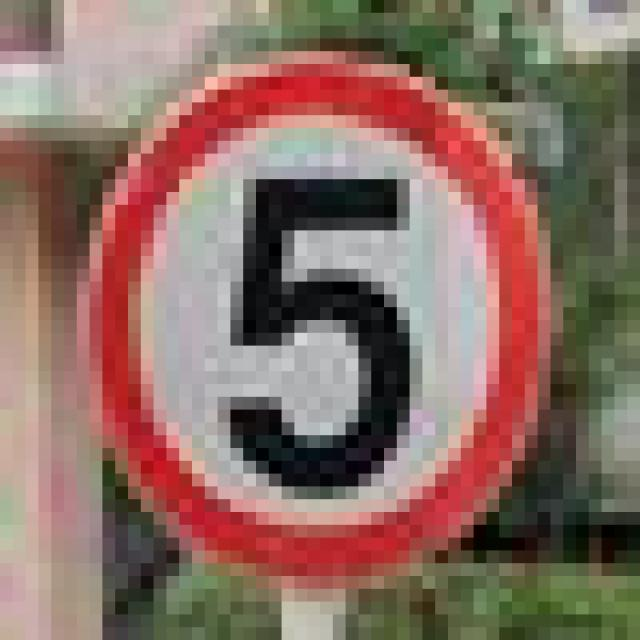speed_limit_20: (52, 38, 550, 550)
